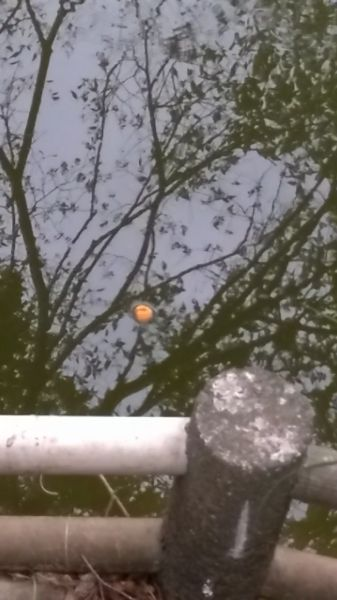eggs: (131, 301, 159, 324)
